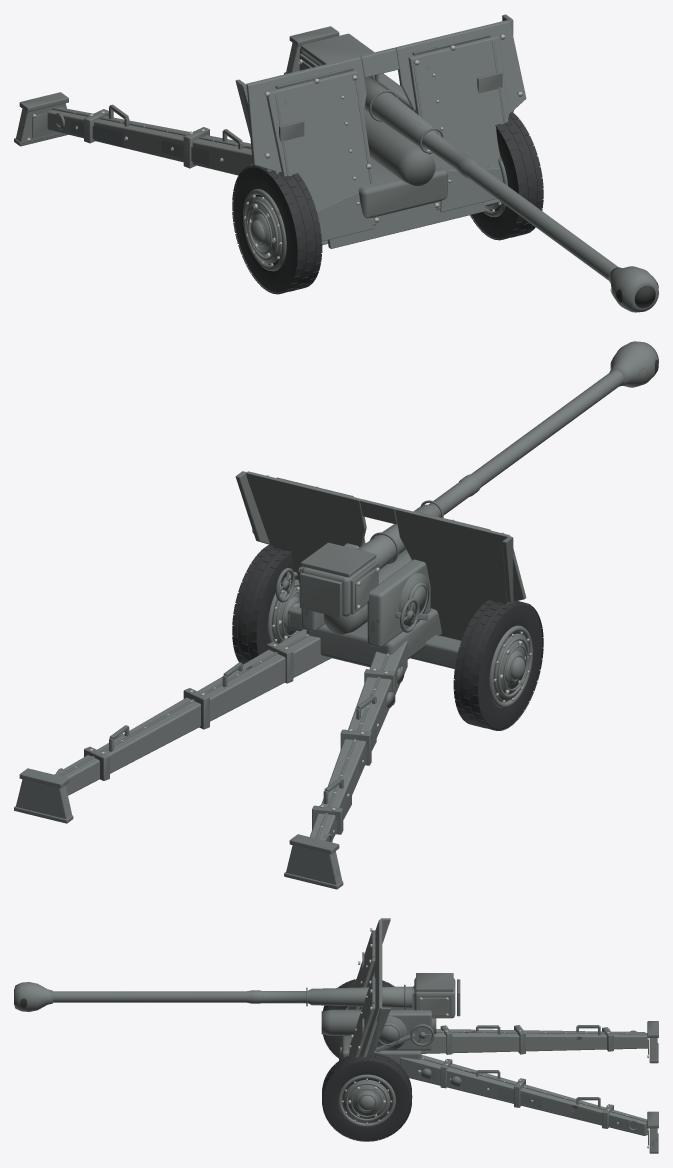
Rendered from unified-node-high.glb.
3 renders of one model, top to bottom at view 1: azimuth 30°, elevation 25°; view 2: azimuth 150°, elevation 25°; view 3: azimuth 270°, elevation 25°, orthographic. The views are drawn at different scales.
Visible parts, largest first — view 1: QF17_Shield_Assembly-QF17_paint.017-batch, QF17_Barrel_Exterior-QF17_paint.017-batch, QF17_Shield_Assembly-QF17_fitting.017-batch, QF17_Carriage_Exterior-QF17_fitting.017-batch, QF17_PGF_Tire, QF17_Trail_Left_Exterior-QF17_paint.017-batch, QF17_Trail_Left_Exterior-QF17_fitting.017-batch, QF17_PGF_Tire001, QF17_Wheel_Left_Pivot-QF17_wheel.017-batch, QF17_Cosmetic_Fittings-QF17_fitting.017-batch, QF17_Wheel_Left_Pivot-QF17_fitting.017-batch, QF17_Carriage_Exterior-QF17_paint.017-batch (+3 smaller); view 2: QF17_Shield_Assembly-QF17_paint.017-batch, QF17_Carriage_Exterior-QF17_fitting.017-batch, QF17_Trail_Right_Exterior-QF17_paint.017-batch, QF17_PGF_Tire, QF17_Barrel_Exterior-QF17_paint.017-batch, QF17_Trail_Left_Exterior-QF17_paint.017-batch, QF17_Carriage_Exterior-QF17_paint.017-batch, QF17_PGF_Tire001, QF17_Trail_Left_Exterior-QF17_fitting.017-batch, QF17_Trail_Right_Exterior-QF17_fitting.017-batch, QF17_Wheel_Left_Pivot-QF17_wheel.017-batch, QF17_Shield_Assembly-QF17_fitting.017-batch (+3 smaller); view 3: QF17_Barrel_Exterior-QF17_paint.017-batch, QF17_PGF_Tire001, QF17_Trail_Left_Exterior-QF17_paint.017-batch, QF17_Trail_Right_Exterior-QF17_paint.017-batch, QF17_Carriage_Exterior-QF17_fitting.017-batch, QF17_Trail_Right_Exterior-QF17_fitting.017-batch, QF17_Carriage_Exterior-QF17_paint.017-batch, QF17_Shield_Assembly-QF17_paint.017-batch, QF17_Wheel_Right_Pivot-QF17_wheel.017-batch, QF17_Trail_Left_Exterior-QF17_fitting.017-batch, QF17_Shield_Assembly-QF17_fitting.017-batch, QF17_Wheel_Right_Pivot-QF17_fitting.017-batch (+2 smaller).
Part boxes in pixels (x1=…): QF17_Shield_Assembly-QF17_paint.017-batch: x1=246, y1=20, x2=526, y2=253; QF17_Barrel_Exterior-QF17_paint.017-batch: x1=364, y1=76, x2=658, y2=312; QF17_Shield_Assembly-QF17_fitting.017-batch: x1=235, y1=14, x2=513, y2=248; QF17_Carriage_Exterior-QF17_fitting.017-batch: x1=299, y1=33, x2=447, y2=218; QF17_PGF_Tire: x1=232, y1=165, x2=322, y2=294; QF17_Trail_Left_Exterior-QF17_paint.017-batch: x1=16, y1=103, x2=252, y2=175; QF17_Trail_Left_Exterior-QF17_fitting.017-batch: x1=14, y1=92, x2=254, y2=168; QF17_PGF_Tire001: x1=470, y1=112, x2=543, y2=240; QF17_Wheel_Left_Pivot-QF17_wheel.017-batch: x1=243, y1=188, x2=286, y2=271; QF17_Cosmetic_Fittings-QF17_fitting.017-batch: x1=279, y1=72, x2=502, y2=141; QF17_Wheel_Left_Pivot-QF17_fitting.017-batch: x1=246, y1=196, x2=282, y2=263; QF17_Carriage_Exterior-QF17_paint.017-batch: x1=300, y1=50, x2=416, y2=113; QF17_Shield_Assembly-QF17_paint.017-batch: x1=246, y1=471, x2=526, y2=640; QF17_Carriage_Exterior-QF17_fitting.017-batch: x1=287, y1=542, x2=461, y2=669; QF17_Trail_Right_Exterior-QF17_paint.017-batch: x1=16, y1=629, x2=331, y2=818; QF17_PGF_Tire: x1=453, y1=600, x2=543, y2=730; QF17_Barrel_Exterior-QF17_paint.017-batch: x1=358, y1=341, x2=658, y2=569; QF17_Trail_Left_Exterior-QF17_paint.017-batch: x1=286, y1=641, x2=407, y2=884; QF17_Carriage_Exterior-QF17_paint.017-batch: x1=301, y1=543, x2=430, y2=647; QF17_PGF_Tire001: x1=232, y1=544, x2=294, y2=664; QF17_Trail_Left_Exterior-QF17_fitting.017-batch: x1=284, y1=653, x2=404, y2=889; QF17_Trail_Right_Exterior-QF17_fitting.017-batch: x1=14, y1=633, x2=309, y2=823; QF17_Wheel_Left_Pivot-QF17_wheel.017-batch: x1=489, y1=625, x2=532, y2=707; QF17_Shield_Assembly-QF17_fitting.017-batch: x1=235, y1=471, x2=513, y2=603; QF17_Barrel_Exterior-QF17_paint.017-batch: x1=14, y1=982, x2=412, y2=1011; QF17_PGF_Tire001: x1=322, y1=1052, x2=412, y2=1141; QF17_Trail_Left_Exterior-QF17_paint.017-batch: x1=421, y1=1029, x2=657, y2=1060; QF17_Trail_Right_Exterior-QF17_paint.017-batch: x1=400, y1=1055, x2=657, y2=1150; QF17_Carriage_Exterior-QF17_fitting.017-batch: x1=321, y1=973, x2=460, y2=1064; QF17_Trail_Right_Exterior-QF17_fitting.017-batch: x1=421, y1=1057, x2=658, y2=1153; QF17_Carriage_Exterior-QF17_paint.017-batch: x1=375, y1=978, x2=455, y2=1052; QF17_Shield_Assembly-QF17_paint.017-batch: x1=348, y1=919, x2=382, y2=1058; QF17_Wheel_Right_Pivot-QF17_wheel.017-batch: x1=338, y1=1074, x2=395, y2=1127; QF17_Trail_Left_Exterior-QF17_fitting.017-batch: x1=436, y1=1021, x2=658, y2=1063; QF17_Shield_Assembly-QF17_fitting.017-batch: x1=339, y1=918, x2=390, y2=1060; QF17_Wheel_Right_Pivot-QF17_fitting.017-batch: x1=343, y1=1079, x2=390, y2=1122.
Size of the model in its own units: 3.33 by 1.97 by 8.38.
6 materials, 3 textured.
